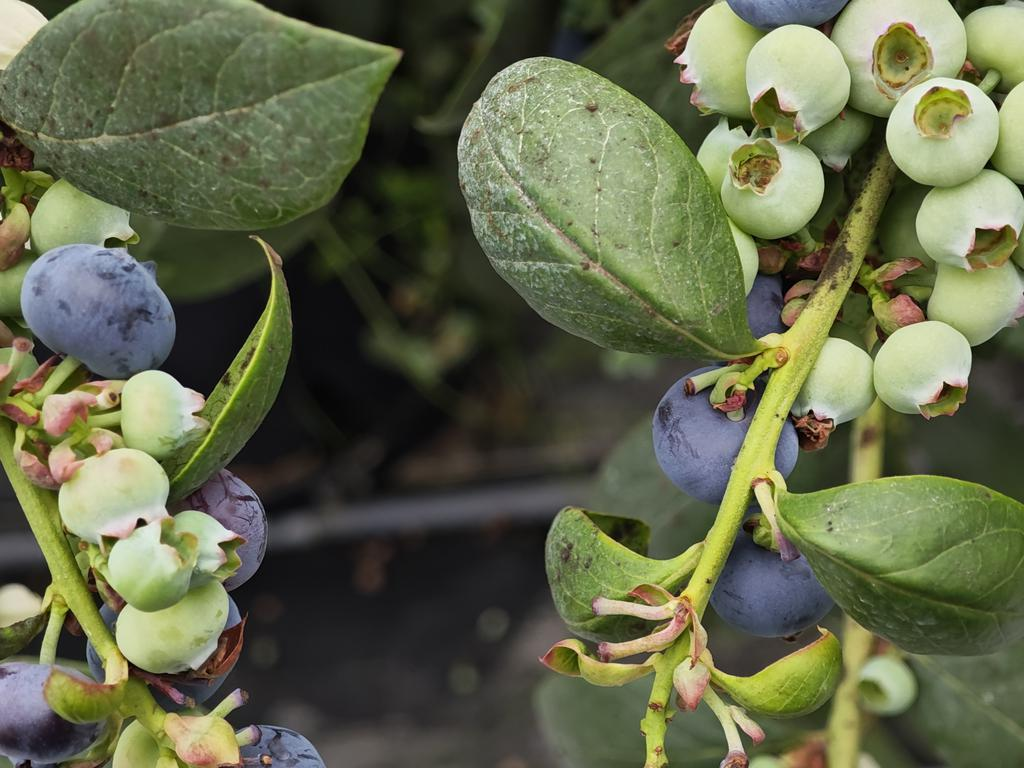RipeBlueBerry: (23, 241, 178, 373)
UnripeBlueBerry: (884, 73, 1001, 187), (747, 21, 851, 138), (722, 138, 826, 239), (57, 447, 169, 540), (917, 173, 1024, 268), (873, 319, 971, 419), (107, 526, 198, 611)
